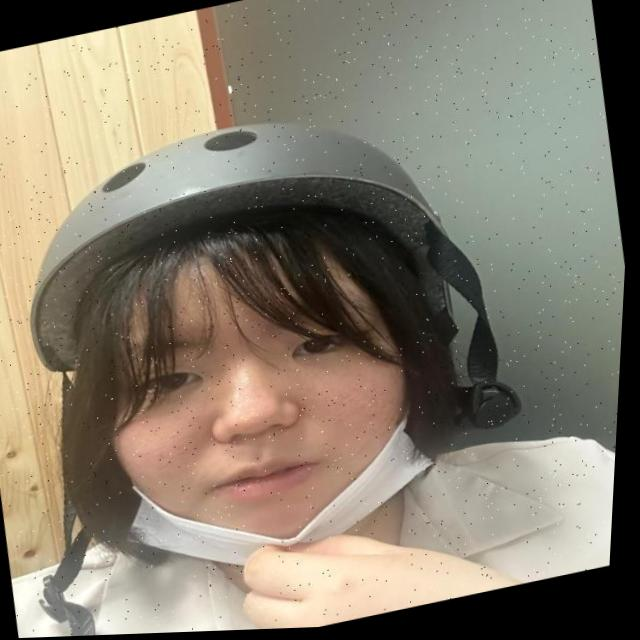helmet: (0, 76, 572, 640)
